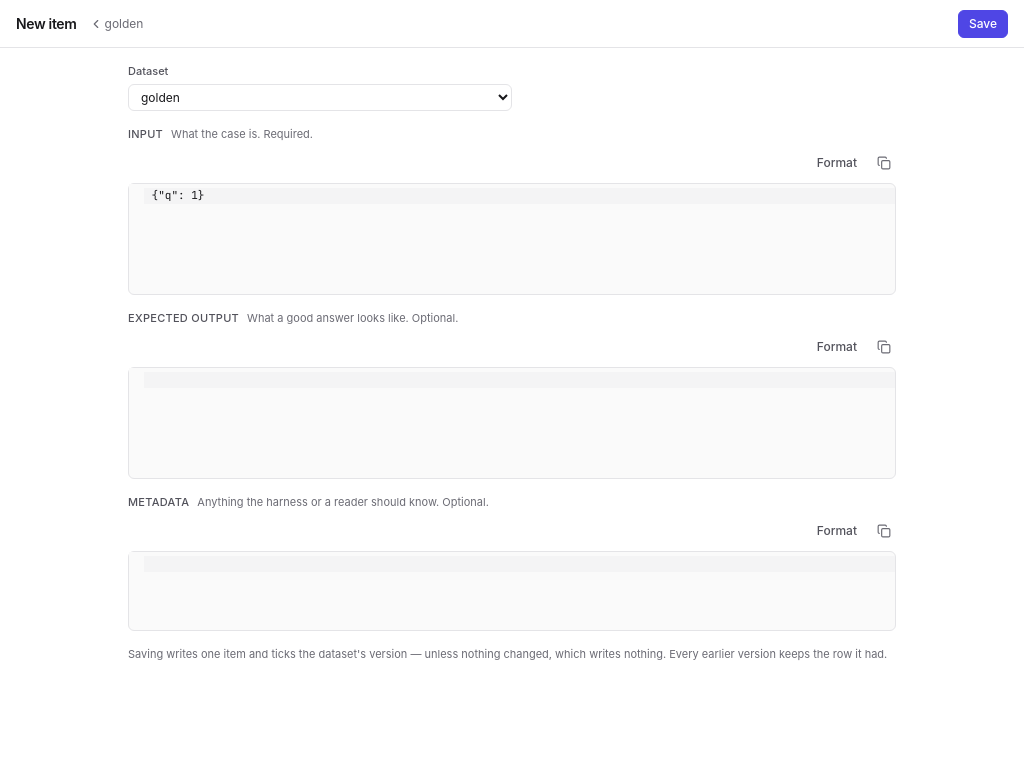
Test case: what a save sends and says › says so when the write changed nothing
Click the button "Save": (983, 24) [958,10,1008,38]
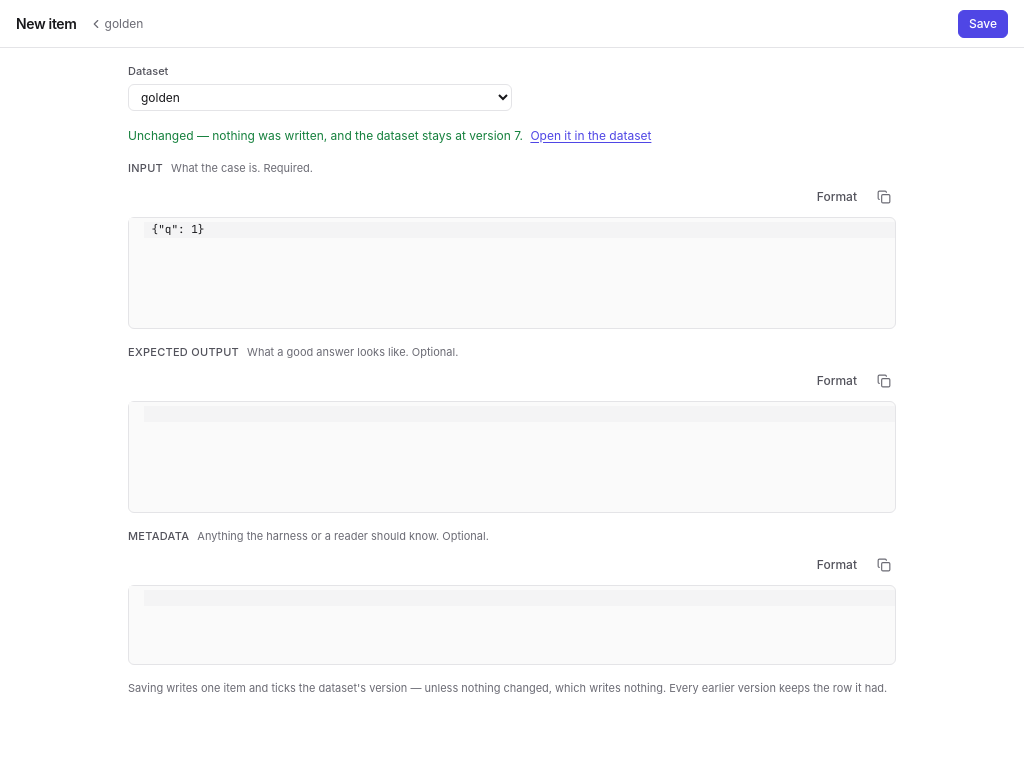
Check: the text "Unchanged" shows "version 7", box [128,128,526,143]
